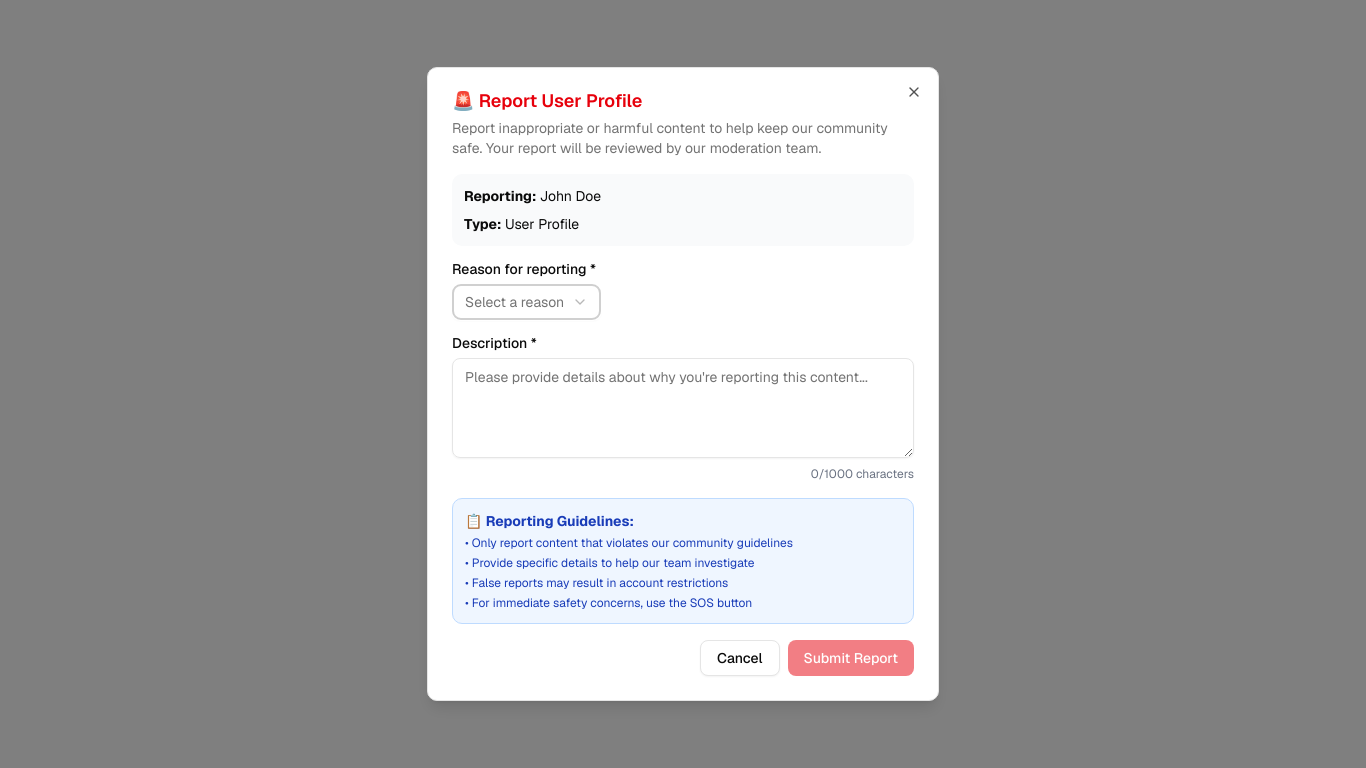
Test: ReportDialog Component › Form Interaction › shows character count for description field
In the text box with placeholder "Please provide details": x=683, y=408 [452,358,914,458], type "Test description"
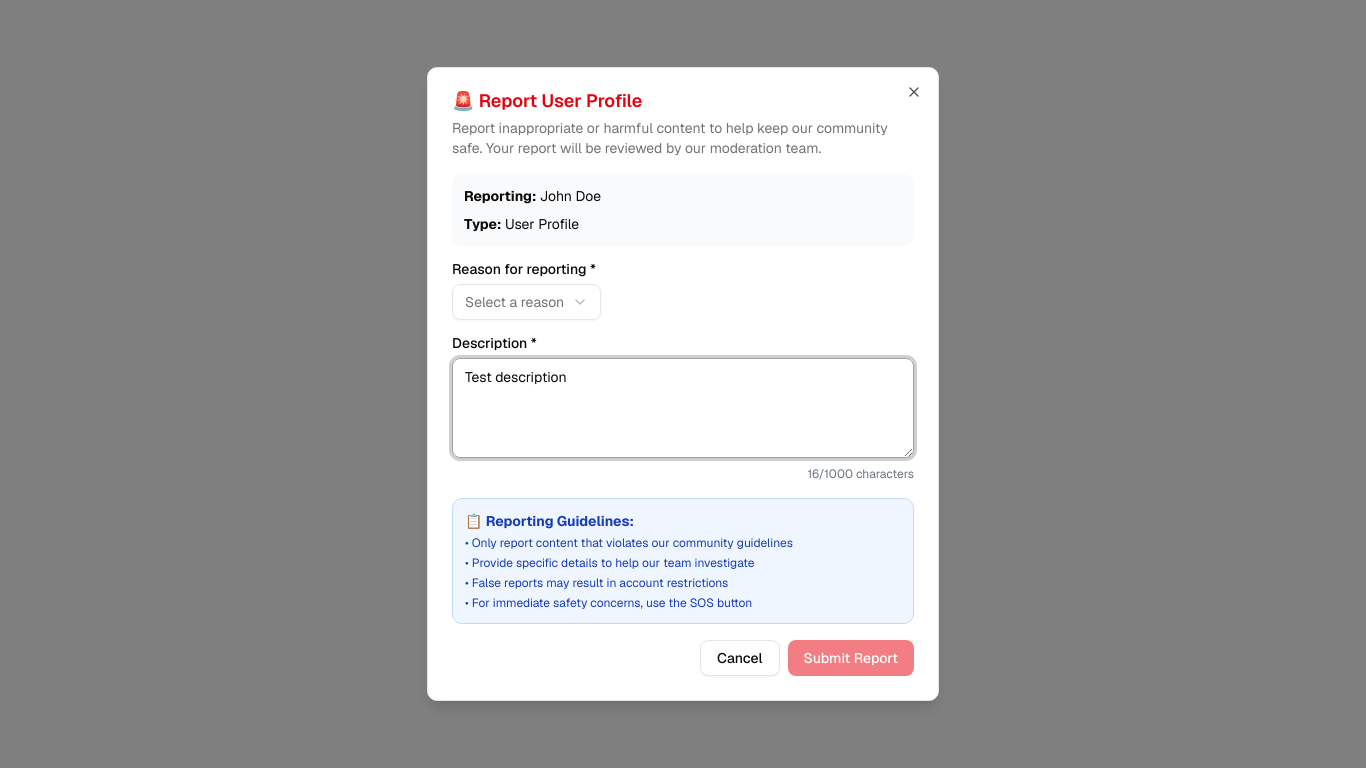
Expected: the text "16/1000 characters" is shown, [807,466,914,482]
